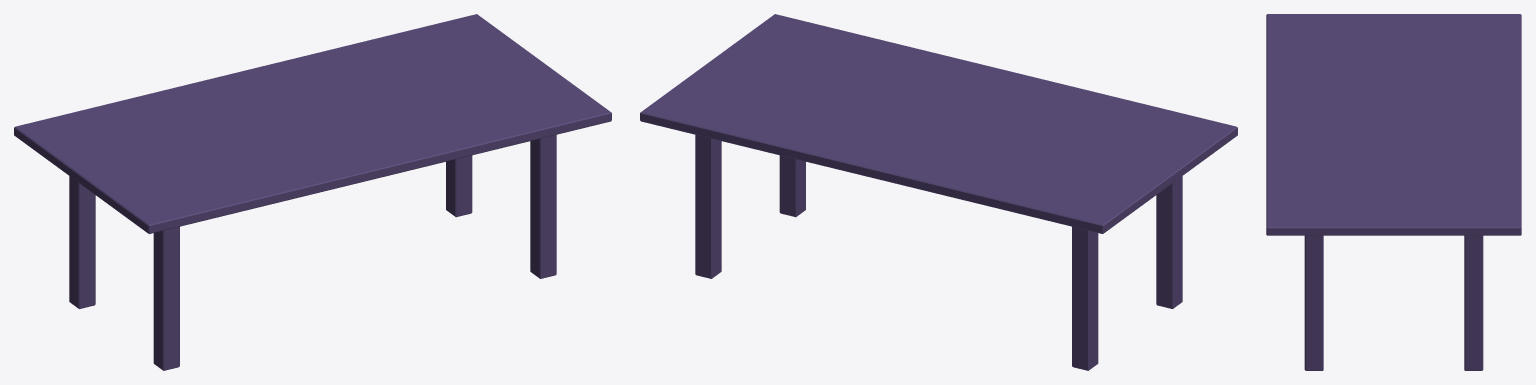
Rendered from Table.fbx.
The picture shows the model from 3 angles, left to right: view 1: azimuth 30°, elevation 25°; view 2: azimuth 150°, elevation 25°; view 3: azimuth 270°, elevation 25°; orthographic projection. The views are drawn at different scales.
Parts seen in each view (by area): view 1: Table; view 2: Table; view 3: Table.
Boxes of the visible parts, box(x1,y1,x2,y2) form: Table: box(14, 14, 611, 370); Table: box(640, 14, 1237, 370); Table: box(1266, 14, 1521, 370).
Bounding box in the file's own units: 2.68 × 0.9366 × 1.35.
